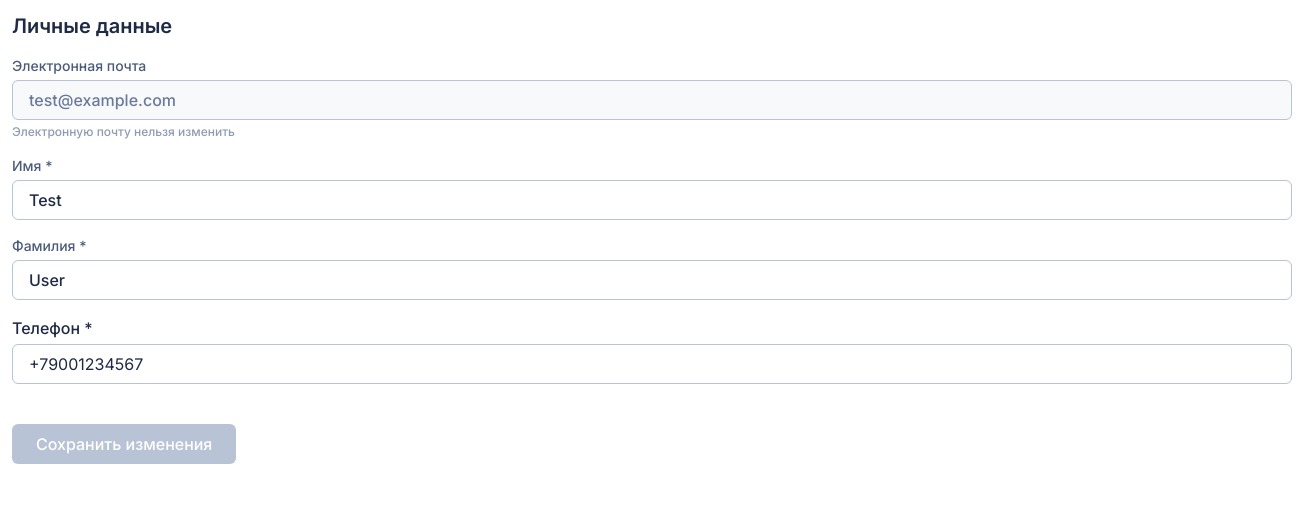
Scenario: ProfileForm › Form Validation › shows validation error for invalid phone format
Type "123456" into the field labelled "Телефон *".
click(652, 364); type("123456")  # box [12,344,1292,384]
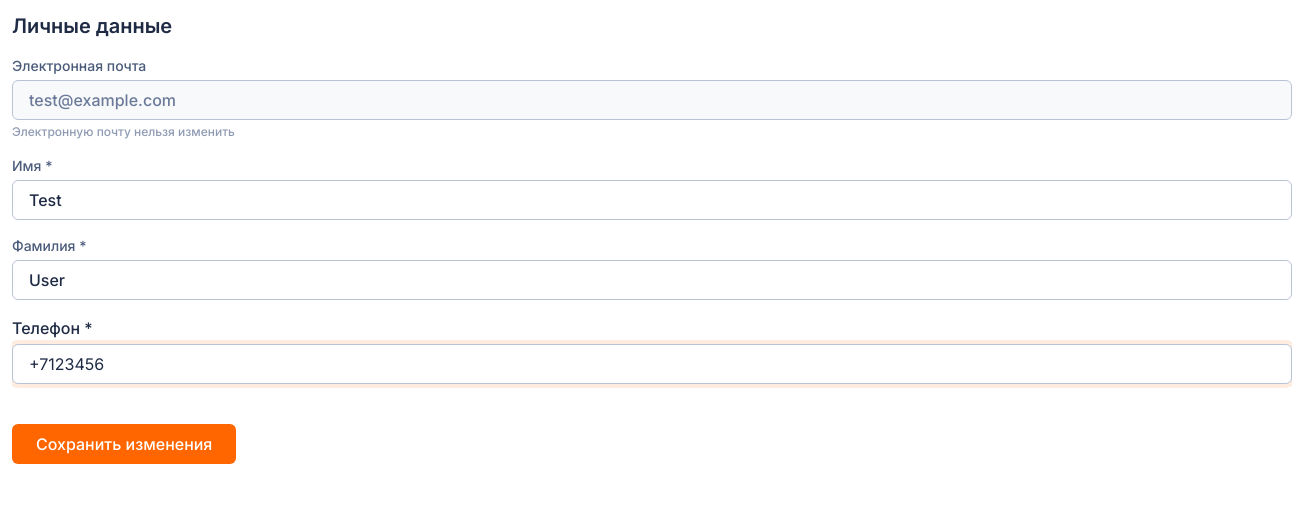
Click the button "Сохранить изменения".
click(124, 444)  # box [12,424,236,464]
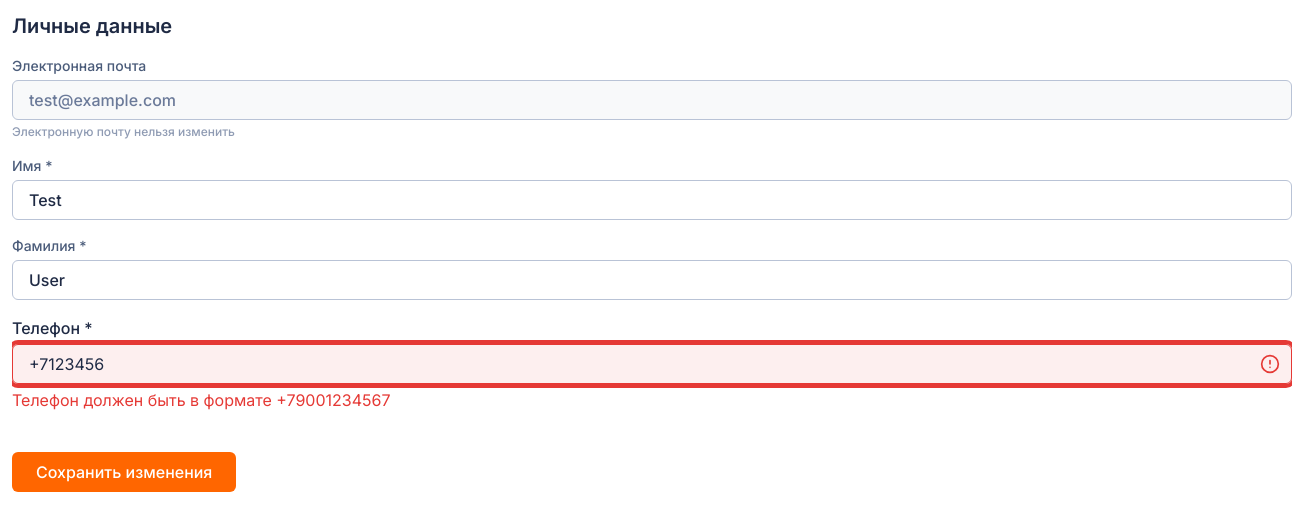
Expected: the text "Телефон должен быть в формате +79001234567" is shown, [12,390,390,410]
